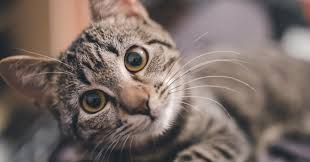cat: (1, 1, 308, 162)
